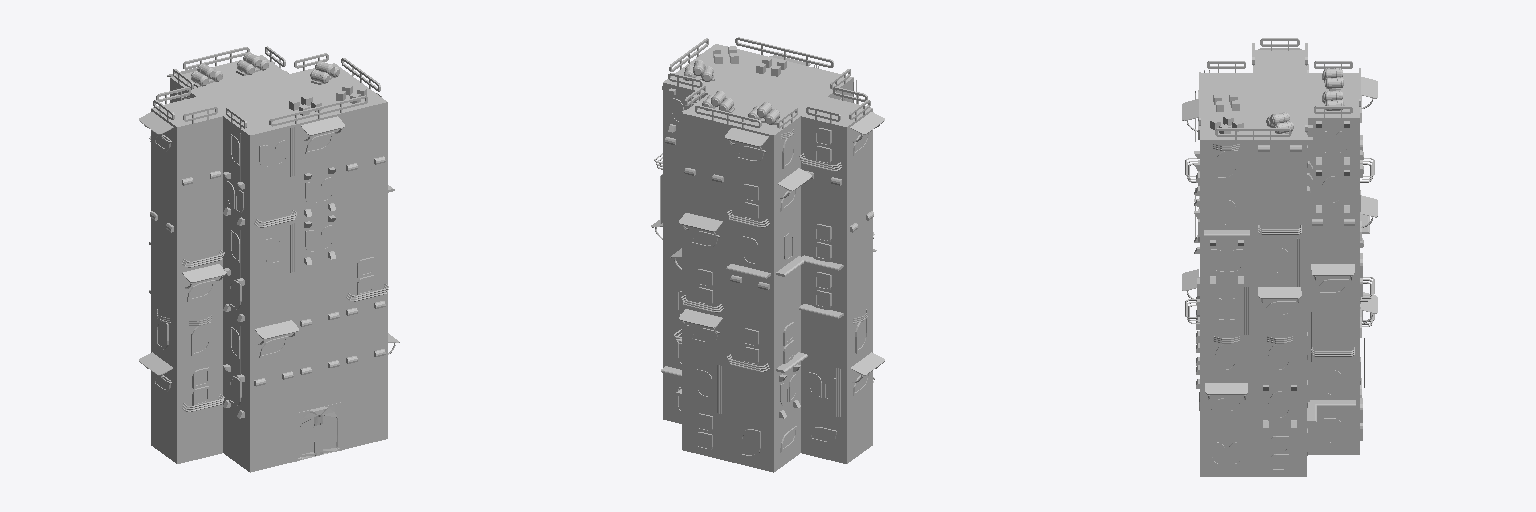
Rendered from Building #1.obj.
3 views of the same model, side by side, from view 1: azimuth 30°, elevation 25°; view 2: azimuth 150°, elevation 25°; view 3: azimuth 270°, elevation 25° (orthographic).
Visible parts, largest first — view 1: WindowsAndProps; view 2: WindowsAndProps; view 3: WindowsAndProps.
Boxes of the visible parts, x1,y1,x2,y2 form: WindowsAndProps: [139, 46, 399, 472]; WindowsAndProps: [651, 37, 884, 472]; WindowsAndProps: [1182, 38, 1377, 476].
Bounding box in the file's own units: 4.68 × 7.32 × 3.68.